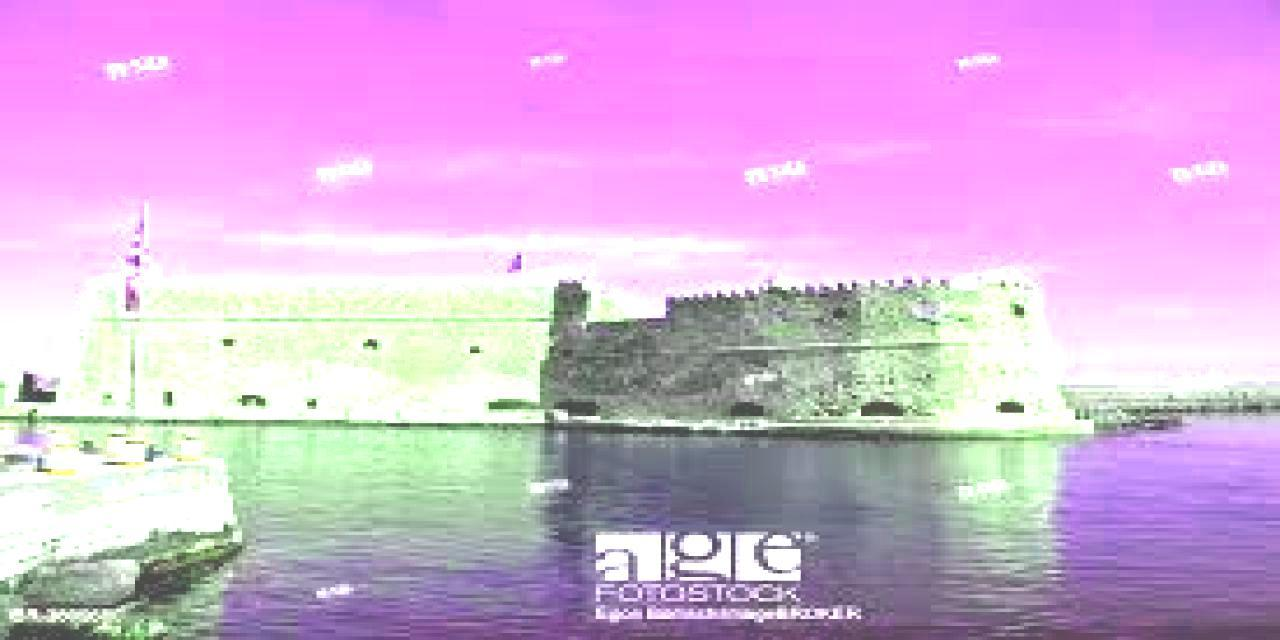Kules: (58, 268, 1097, 443)
